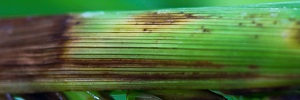RiceSheathBrownRot: (1, 11, 300, 89)
